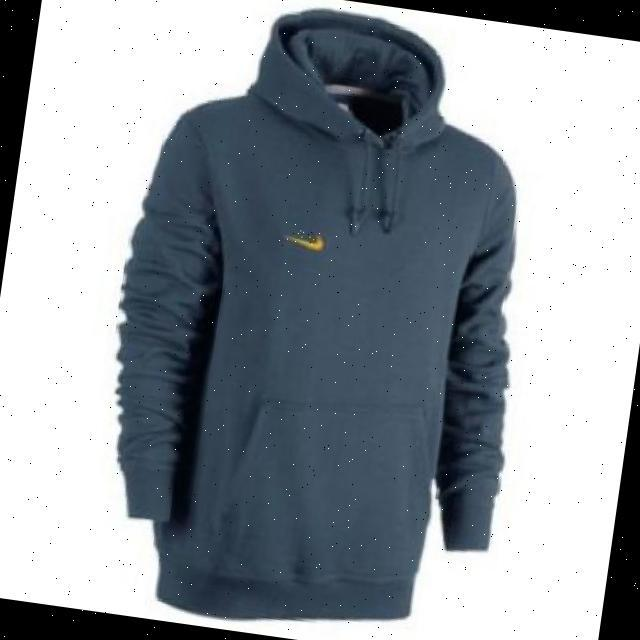Nike: (283, 227, 328, 250)
